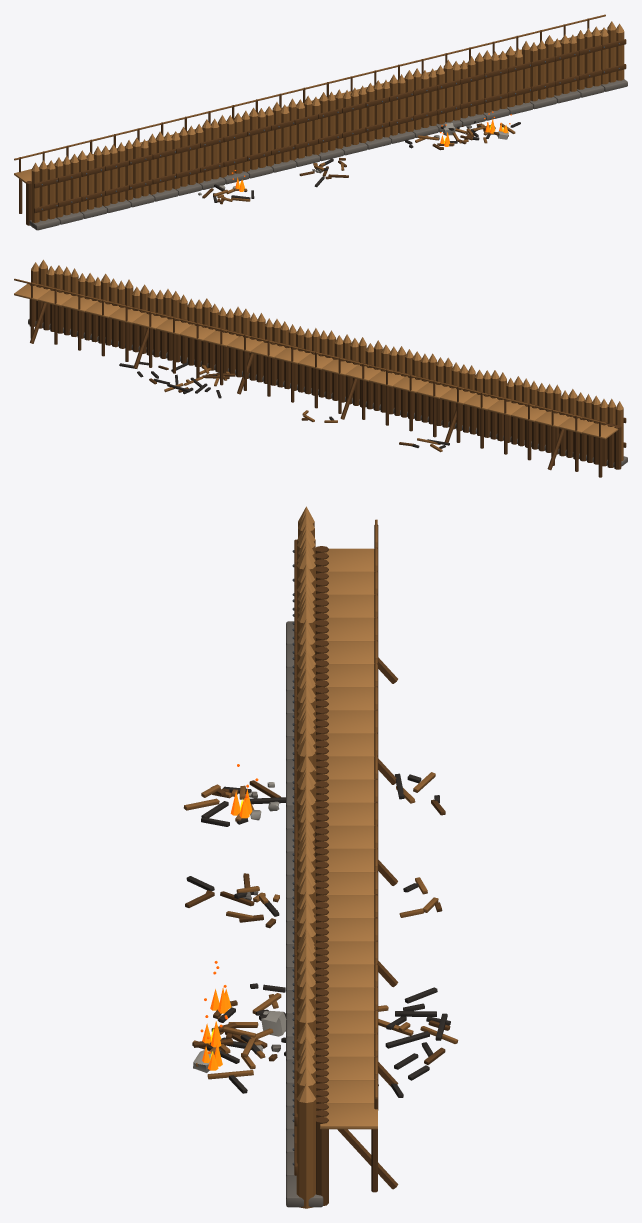
Rendered from mur_bok_etap2.glb.
3 renders of one model, top to bottom at view 1: azimuth 30°, elevation 25°; view 2: azimuth 150°, elevation 25°; view 3: azimuth 270°, elevation 25°, orthographic. The views are drawn at different scales.
Parts seen in each view (by area): view 1: mur_bok_etap2; view 2: mur_bok_etap2; view 3: mur_bok_etap2.
Part boxes in pixels (x1,y1,x2,y2): mur_bok_etap2: (14,14,627,230); mur_bok_etap2: (14,259,627,477); mur_bok_etap2: (183,506,458,1208).
Bounding box in the file's own units: 40.12 × 4.38 × 8.04.
